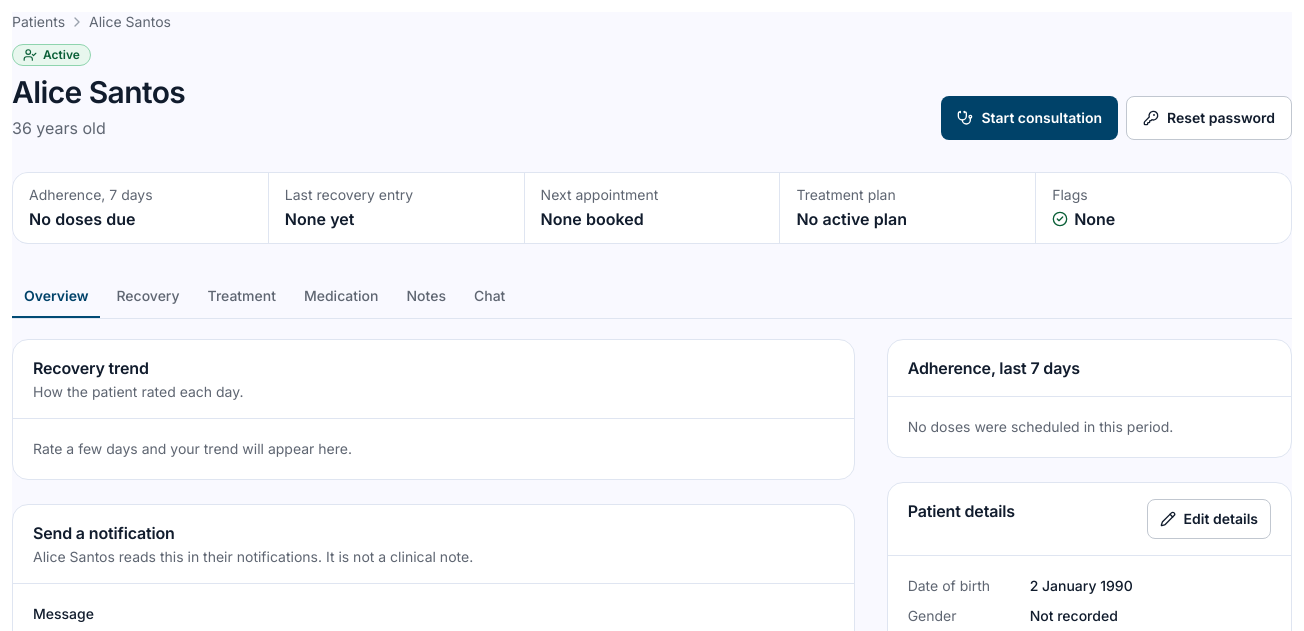
Test: authoring from the patient record › starts the guided consultation on the treatment tab
This screenshot has width=1304, height=631.
Click the button "Start consultation". click: click(1030, 118)
box: [941,96,1118,140]
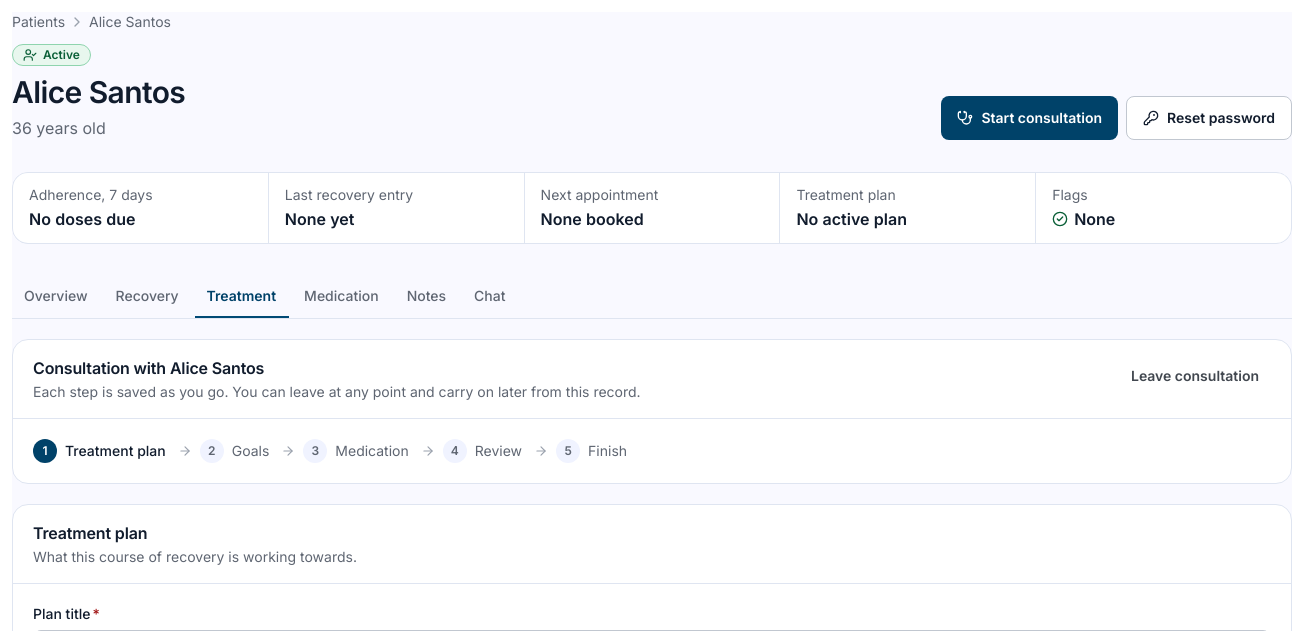
Expected: the tab "Medication" is shown, [292,276,391,318]
Expected: the heading "Consultation with Alice Santos" is shown, [33,358,264,378]
